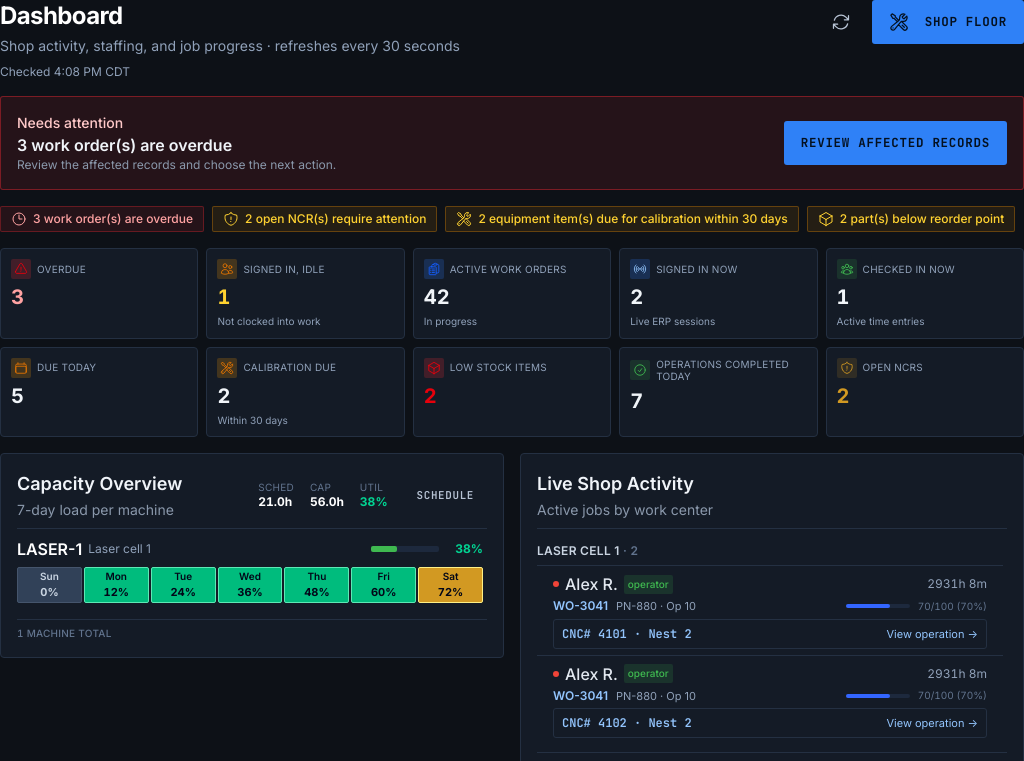
Scenario: dashboard operation details and nest PDF › does not reopen a closed detail view when a slow response arrives
Click the button with aria-label "View operation details for CNC# 4102" at point(627, 723), box [553,708,987,738]
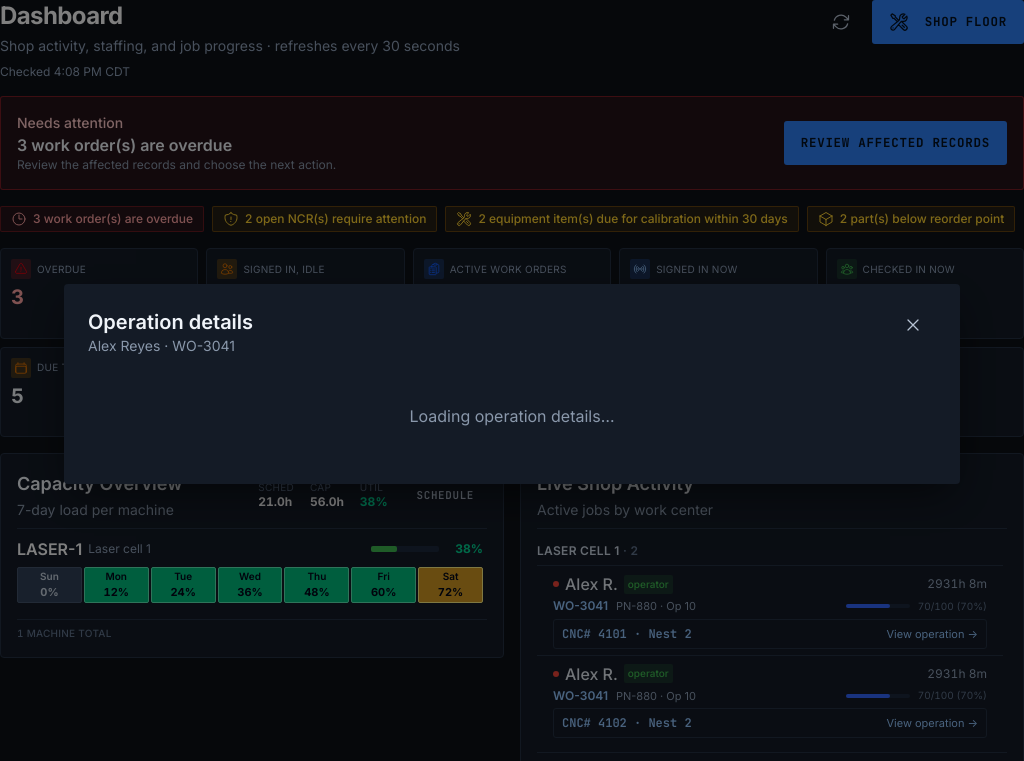
Result: the text "Loading operation details…" is shown at [410,406,614,426]
Click the button named "Close operation details" at point(913, 325), box [890,308,936,342]
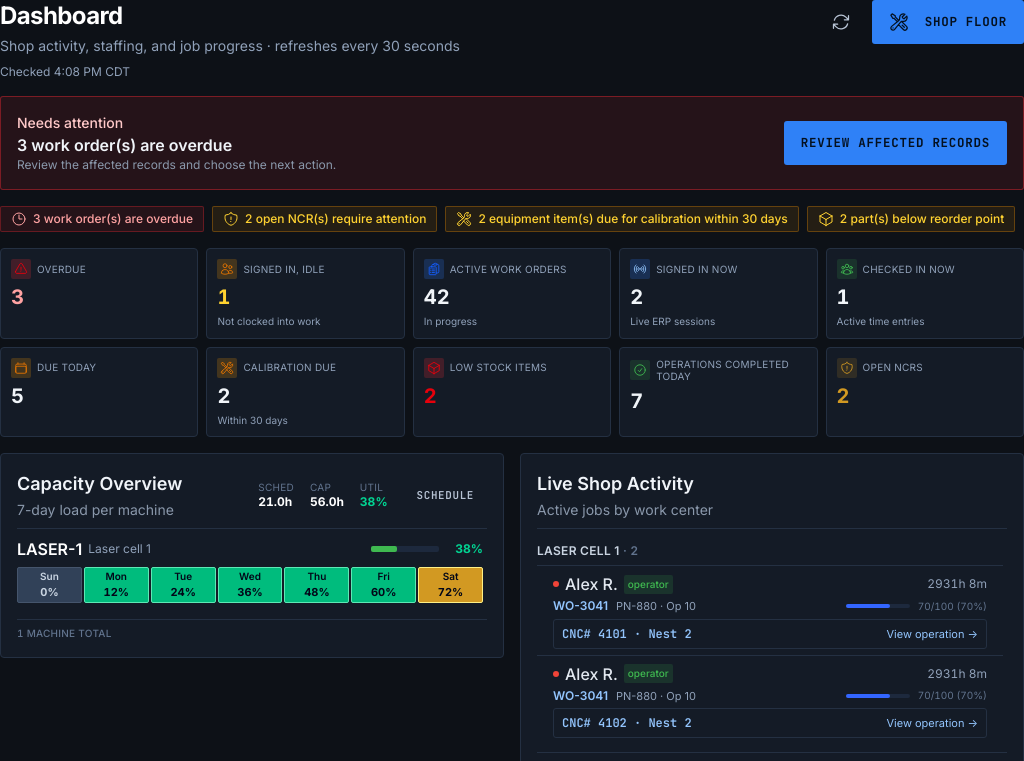
Result: the dialog is gone
